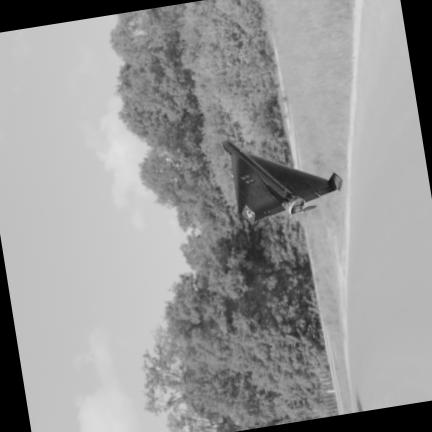Shahed: (222, 141, 341, 224)
